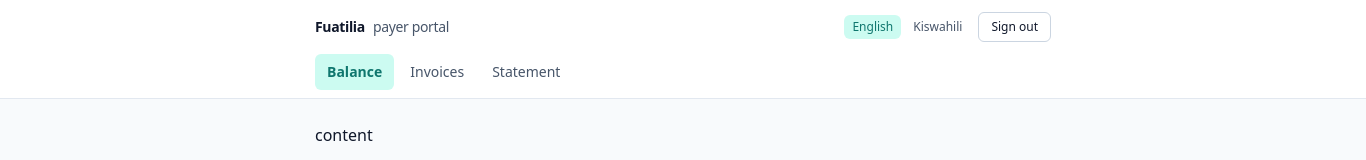
Portal LanguageToggle › persists Kiswahili to the cookie and re-renders the shell in sw
Click the button "Kiswahili": (938, 27) [905, 15, 970, 39]
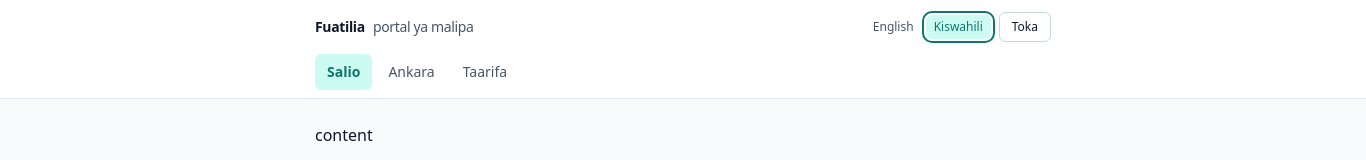
Check: the button "Toka" is shown, box [999, 12, 1051, 42]
Check: the navigation bar named "Menyu ya portal" is shown, box [315, 54, 507, 90]
